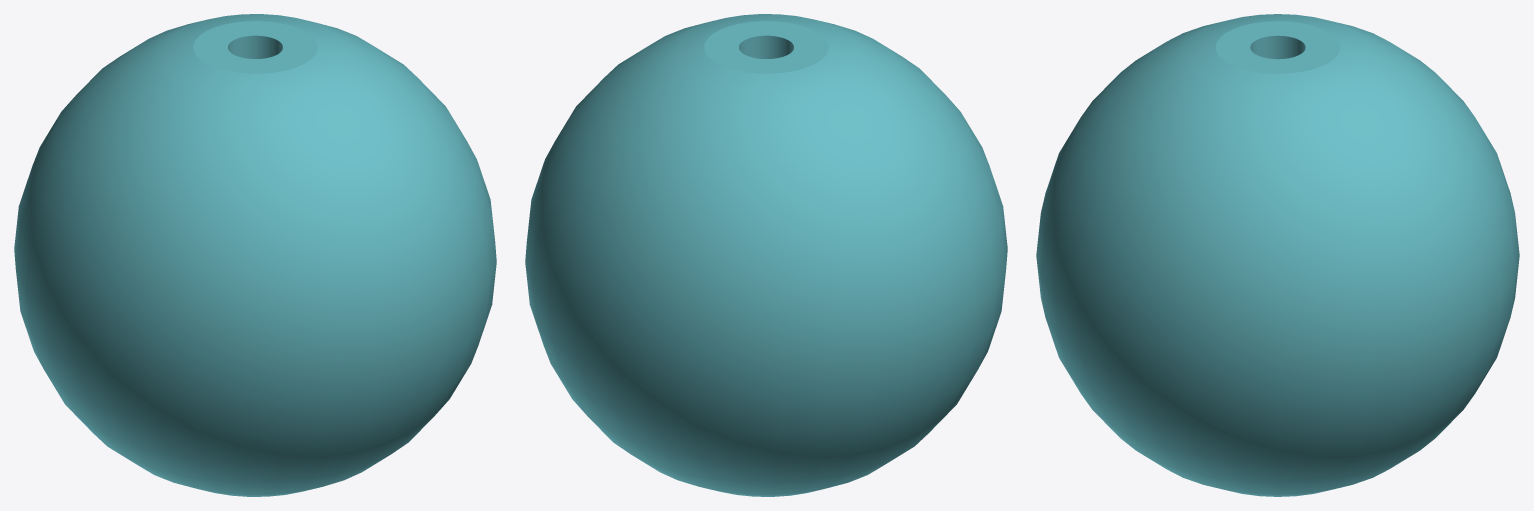
The model's file is Patinete.fbx.
3 renders of one model, left to right at view 1: azimuth 30°, elevation 25°; view 2: azimuth 150°, elevation 25°; view 3: azimuth 270°, elevation 25°, orthographic.
Visible parts, largest first — view 1: part; view 2: part; view 3: part.
Part boxes in pixels (bbox=[...]): part: bbox=[14, 14, 496, 496]; part: bbox=[525, 14, 1007, 496]; part: bbox=[1036, 14, 1519, 496].
Bounding box in the file's own units: 1660 × 1566 × 1660.
